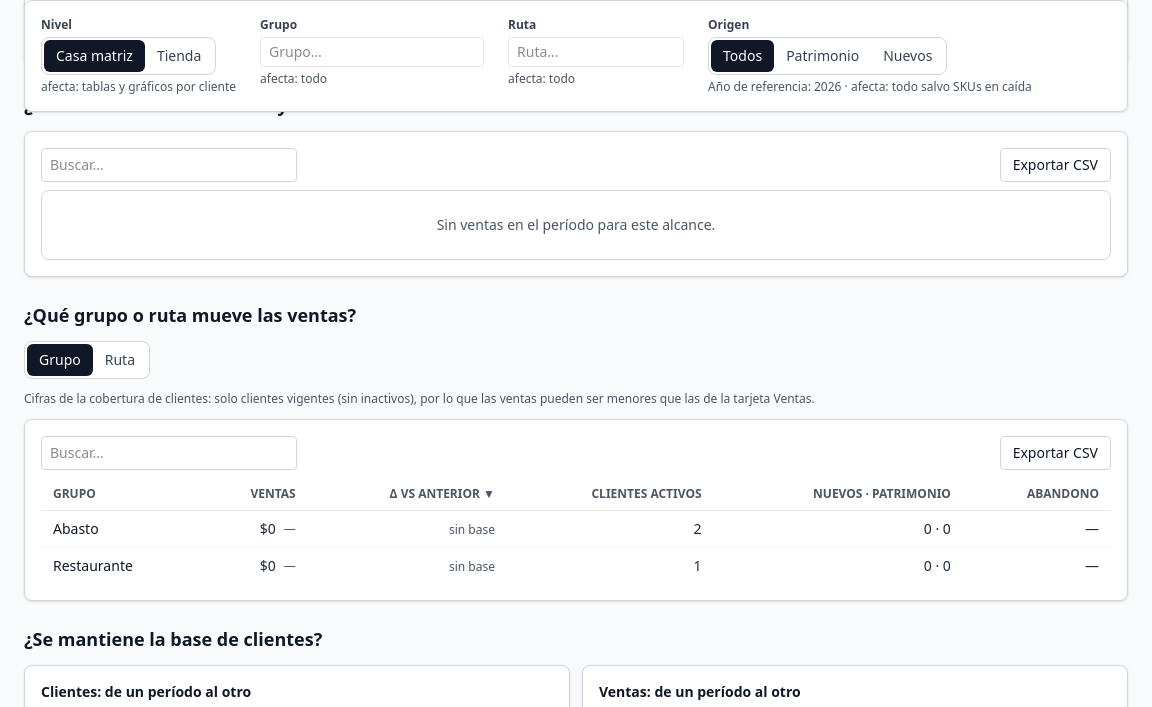
Test case: TabClientes › Q3 can group by ruta
The image size is (1152, 707).
(page scrolled)
Click the button "Ruta": x=120, y=360 93,344 -> 147,376
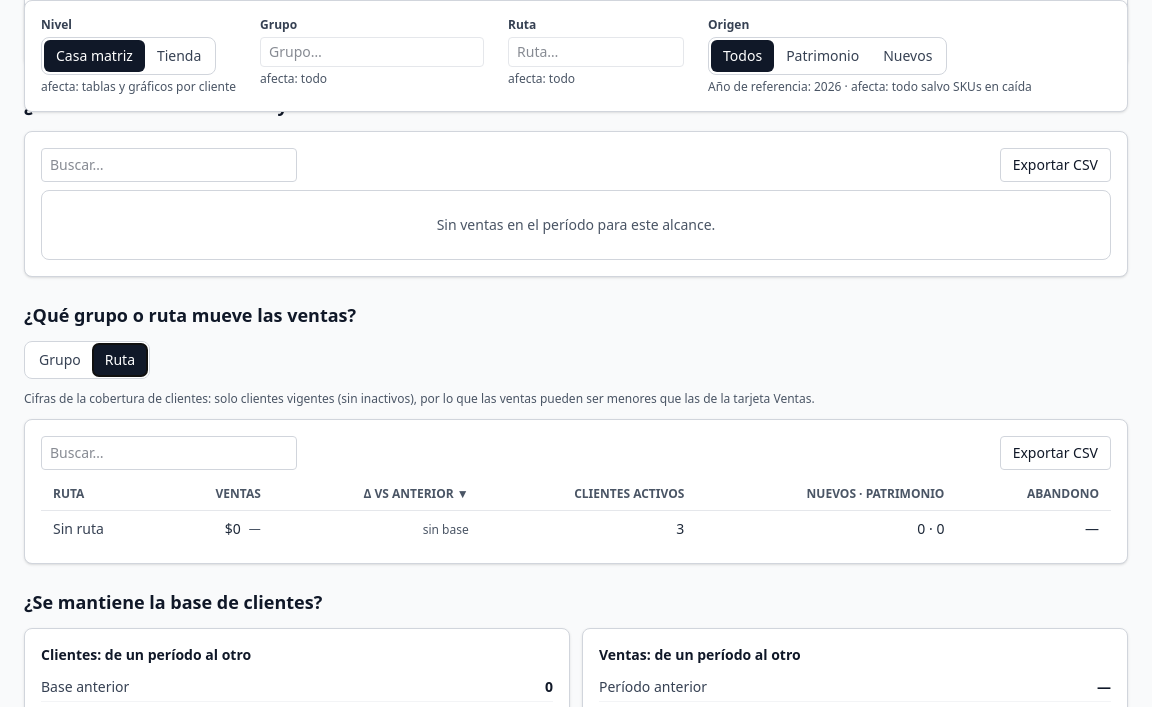
Check: the column heading "Ruta" is shown, box 41,478 -> 162,510
Check: the text "Sin ruta" is shown, box 53,519 -> 104,538
